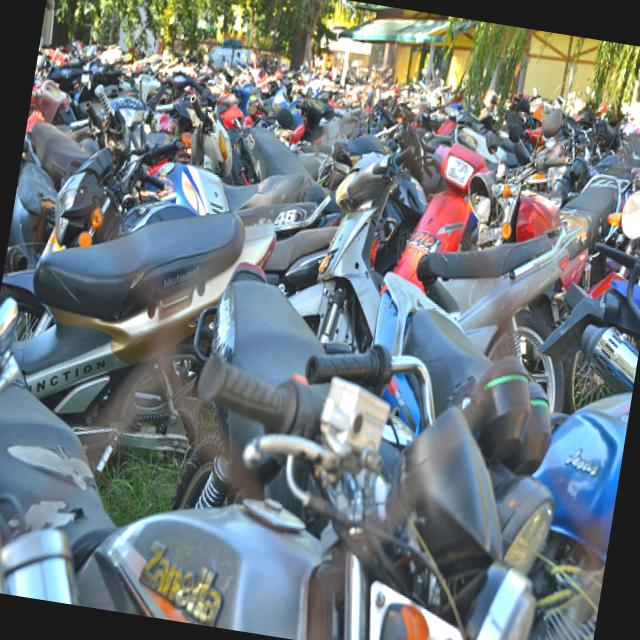Vehicle: (0, 0, 640, 640), (0, 323, 558, 640), (167, 252, 469, 552), (0, 174, 282, 495), (453, 100, 640, 302), (499, 369, 634, 640), (390, 138, 502, 302), (533, 225, 640, 395), (324, 134, 436, 280), (208, 77, 272, 188), (284, 100, 344, 186), (349, 99, 398, 148), (452, 126, 502, 172), (625, 46, 640, 136), (246, 52, 278, 88)
